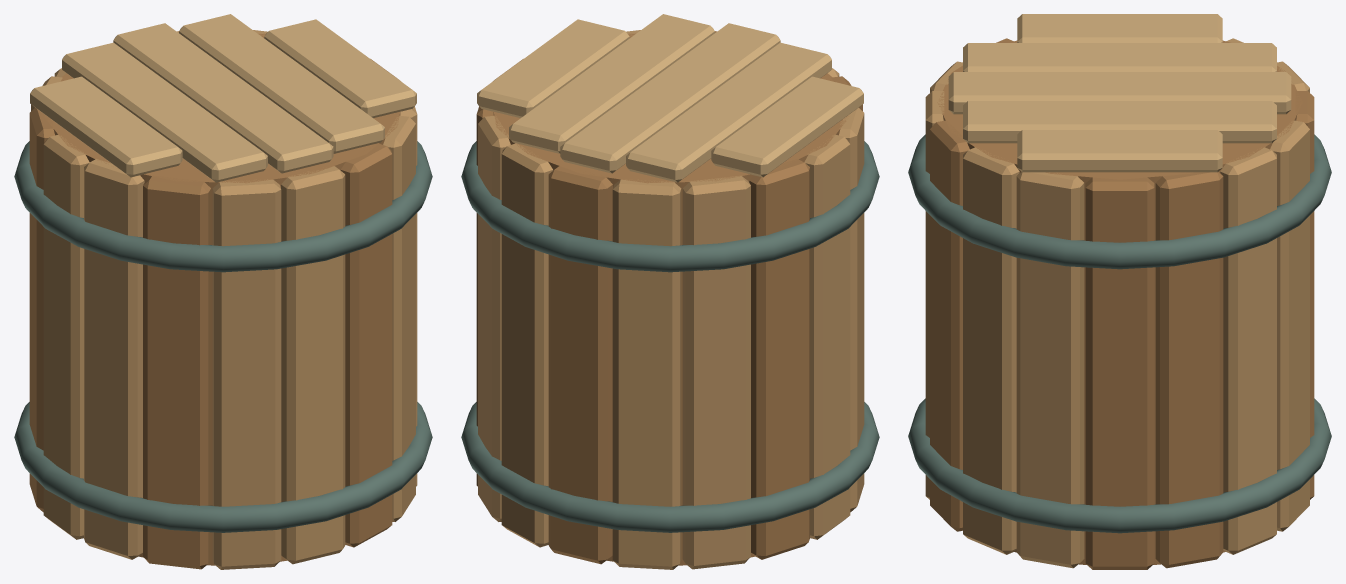
Rendered from wooden_barrel.glb.
3 renders of one model, left to right at view 1: azimuth 30°, elevation 25°; view 2: azimuth 150°, elevation 25°; view 3: azimuth 270°, elevation 25°, orthographic.
Parts seen in each view (by area): view 1: _MeshInstance3D_1109, _MeshInstance3D_1110, _MeshInstance3D_1108, _MeshInstance3D_1111, _MeshInstance3D_1107, _MeshInstance3D_1112, _MeshInstance3D_1120, IronHoop, _MeshInstance3D_1122, _MeshInstance3D_1121, _MeshInstance3D_1123, _MeshInstance3D_1106 (+5 smaller); view 2: _MeshInstance3D_1115, _MeshInstance3D_1114, _MeshInstance3D_1116, _MeshInstance3D_1113, _MeshInstance3D_1117, _MeshInstance3D_1112, _MeshInstance3D_1120, IronHoop, _MeshInstance3D_1122, _MeshInstance3D_1121, _MeshInstance3D_1123, _MeshInstance3D_1118 (+5 smaller); view 3: Stave, _MeshInstance3D_1105, _MeshInstance3D_1119, _MeshInstance3D_1118, _MeshInstance3D_1106, _MeshInstance3D_1120, IronHoop, _MeshInstance3D_1107, _MeshInstance3D_1117, _MeshInstance3D_1123, _MeshInstance3D_1122, _MeshInstance3D_1121 (+5 smaller).
Boxes of the visible parts, <box> form: _MeshInstance3D_1109: <box>212,179,281,569</box>; _MeshInstance3D_1110: <box>143,175,211,569</box>; _MeshInstance3D_1108: <box>281,166,345,564</box>; _MeshInstance3D_1111: <box>84,159,144,559</box>; _MeshInstance3D_1107: <box>340,143,392,547</box>; _MeshInstance3D_1112: <box>43,135,89,539</box>; _MeshInstance3D_1120: <box>14,141,432,272</box>; IronHoop: <box>14,402,432,532</box>; _MeshInstance3D_1122: <box>113,23,333,173</box>; _MeshInstance3D_1121: <box>62,42,267,182</box>; _MeshInstance3D_1123: <box>179,14,384,153</box>; _MeshInstance3D_1106: <box>383,115,415,521</box>; _MeshInstance3D_1115: <box>612,179,681,569</box>; _MeshInstance3D_1114: <box>682,175,750,569</box>; _MeshInstance3D_1116: <box>548,166,612,564</box>; _MeshInstance3D_1113: <box>749,159,809,559</box>; _MeshInstance3D_1117: <box>501,143,553,547</box>; _MeshInstance3D_1112: <box>804,134,850,539</box>; _MeshInstance3D_1120: <box>461,141,879,272</box>; IronHoop: <box>461,402,879,532</box>; _MeshInstance3D_1122: <box>560,23,780,173</box>; _MeshInstance3D_1121: <box>626,42,831,182</box>; _MeshInstance3D_1123: <box>509,14,714,153</box>; _MeshInstance3D_1118: <box>478,115,510,521</box>; Stave: <box>1085,177,1154,569</box>; _MeshInstance3D_1105: <box>1016,171,1084,568</box>; _MeshInstance3D_1119: <box>1155,171,1223,568</box>; _MeshInstance3D_1118: <box>1220,147,1276,554</box>; _MeshInstance3D_1106: <box>963,147,1019,554</box>; _MeshInstance3D_1120: <box>908,134,1331,269</box>; IronHoop: <box>908,398,1331,533</box>; _MeshInstance3D_1107: <box>930,120,969,531</box>; _MeshInstance3D_1117: <box>1270,120,1309,531</box>; _MeshInstance3D_1123: <box>963,101,1276,143</box>; _MeshInstance3D_1122: <box>948,72,1291,114</box>; _MeshInstance3D_1121: <box>963,43,1276,71</box>.
Bounding box in the file's own units: 0.742 × 0.7865 × 0.742.
